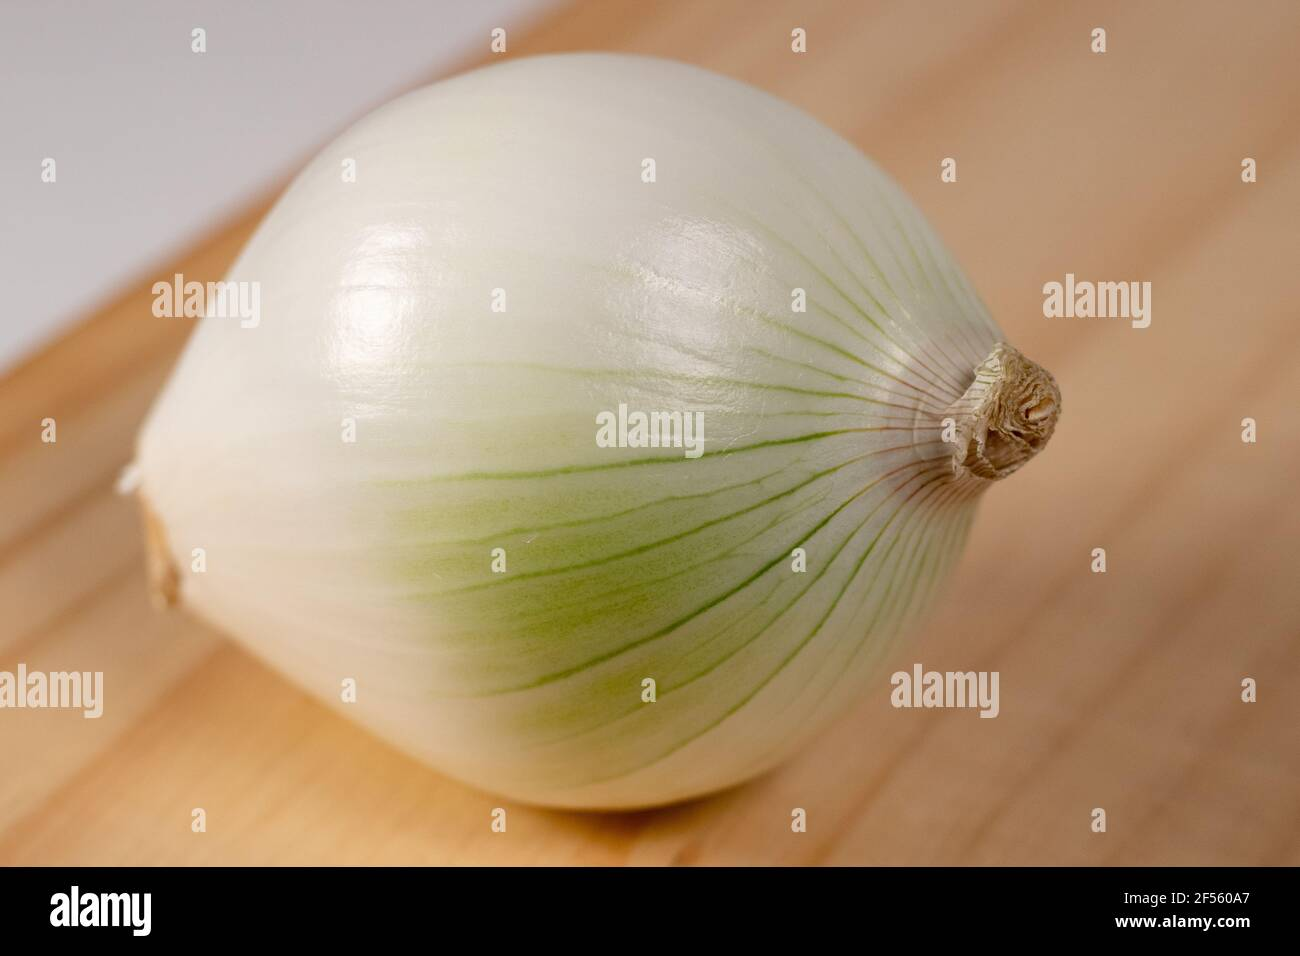onion: (104, 46, 1108, 829)
